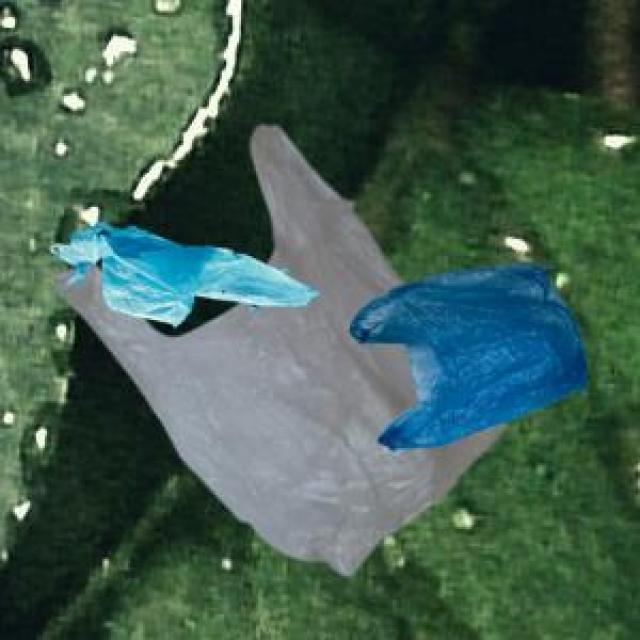waste: (52, 125, 585, 574)
